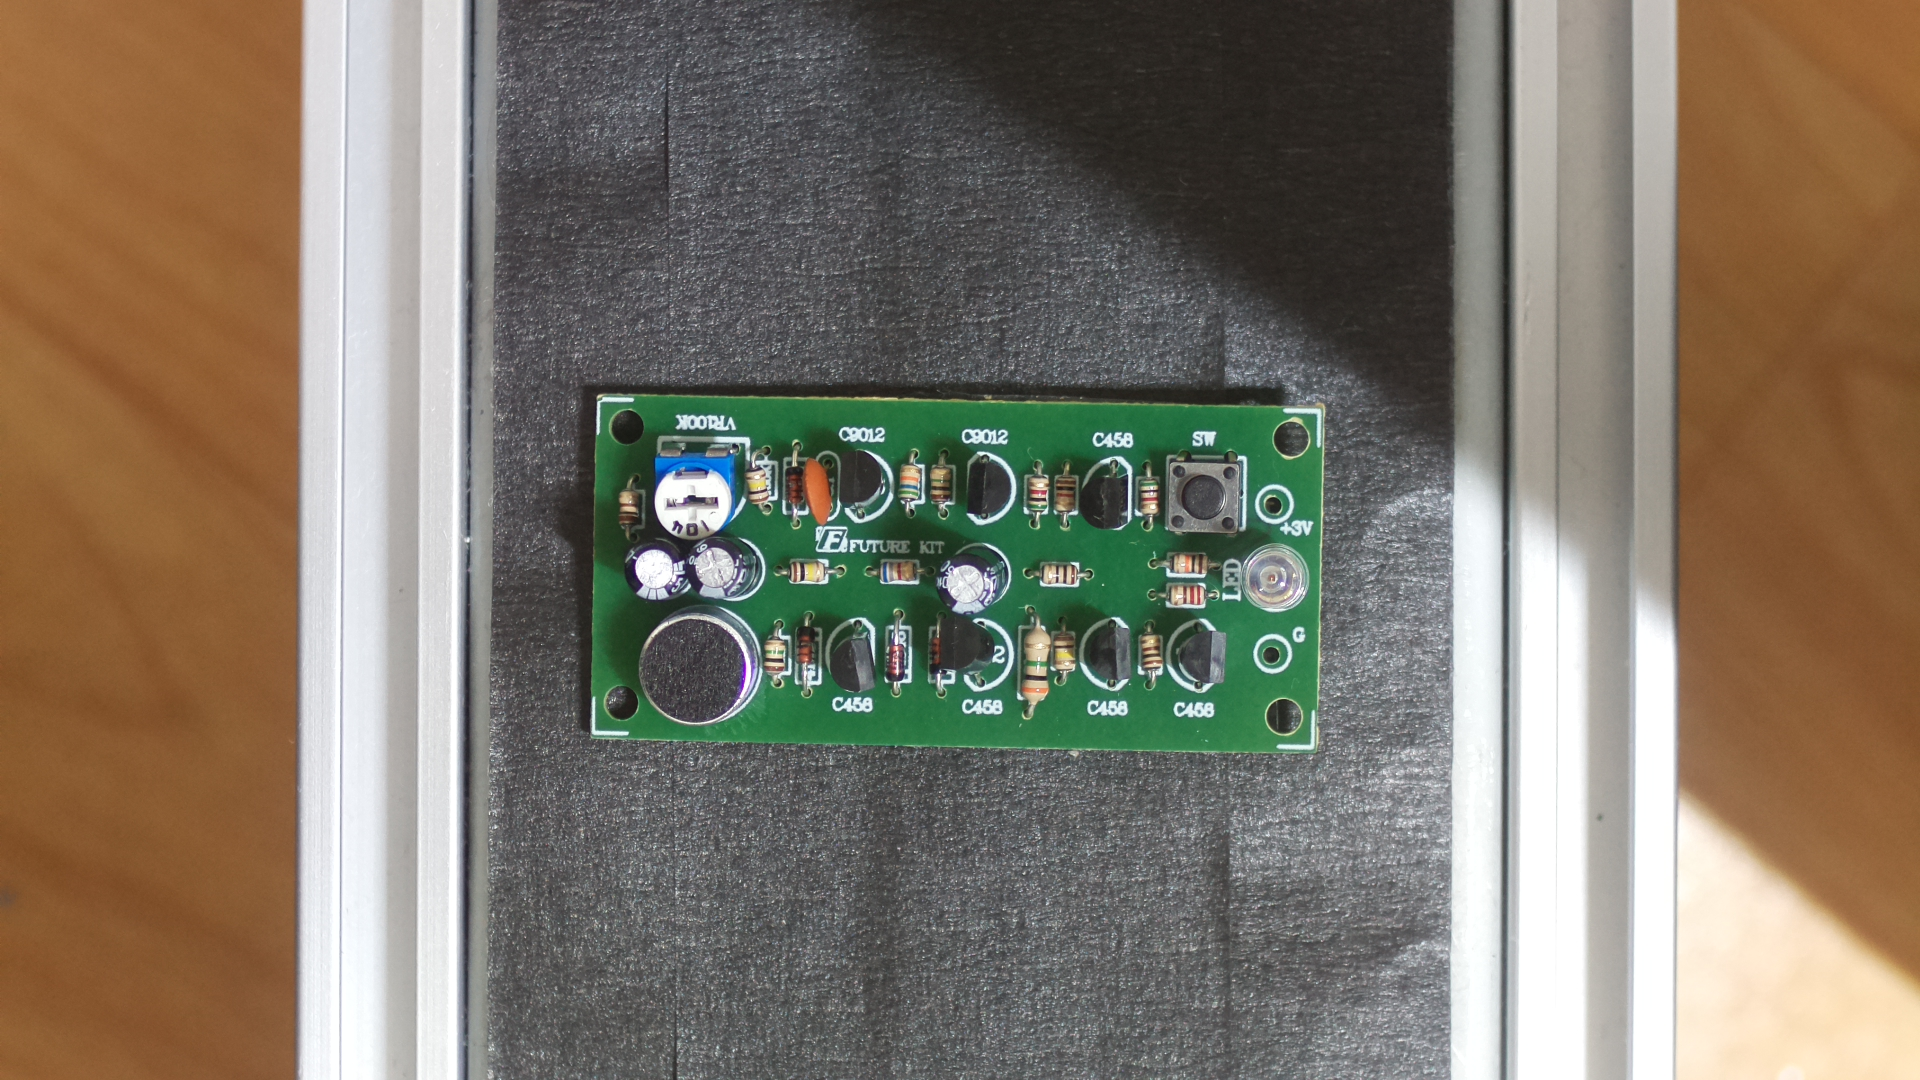A_Normal: (591, 384, 1328, 770)
